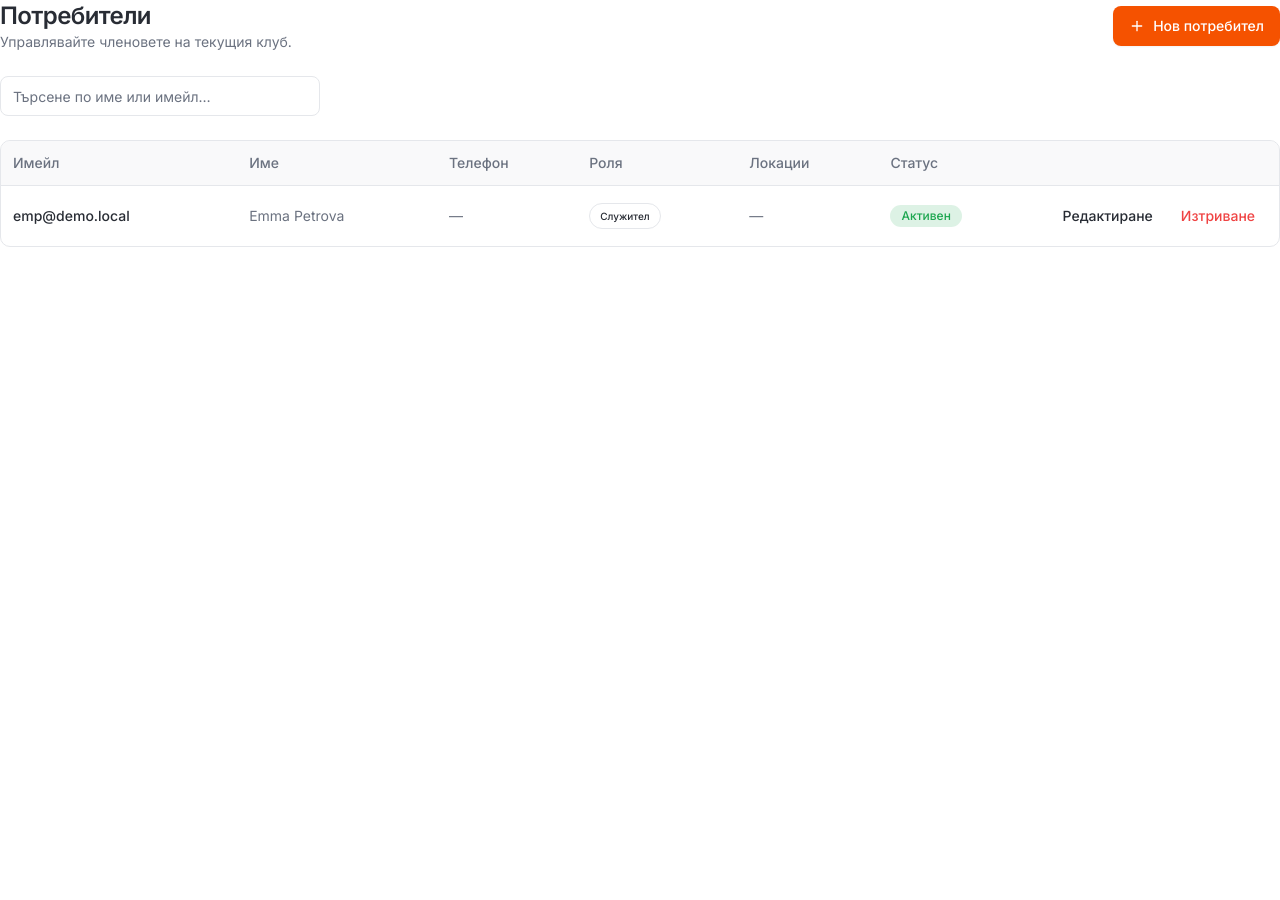
Users list — per-actor removal dialog copy › SUPER_ADMIN keeps the delete-account wording
Click the button "Изтриване".
click(1218, 216)  # box [1169, 198, 1267, 234]
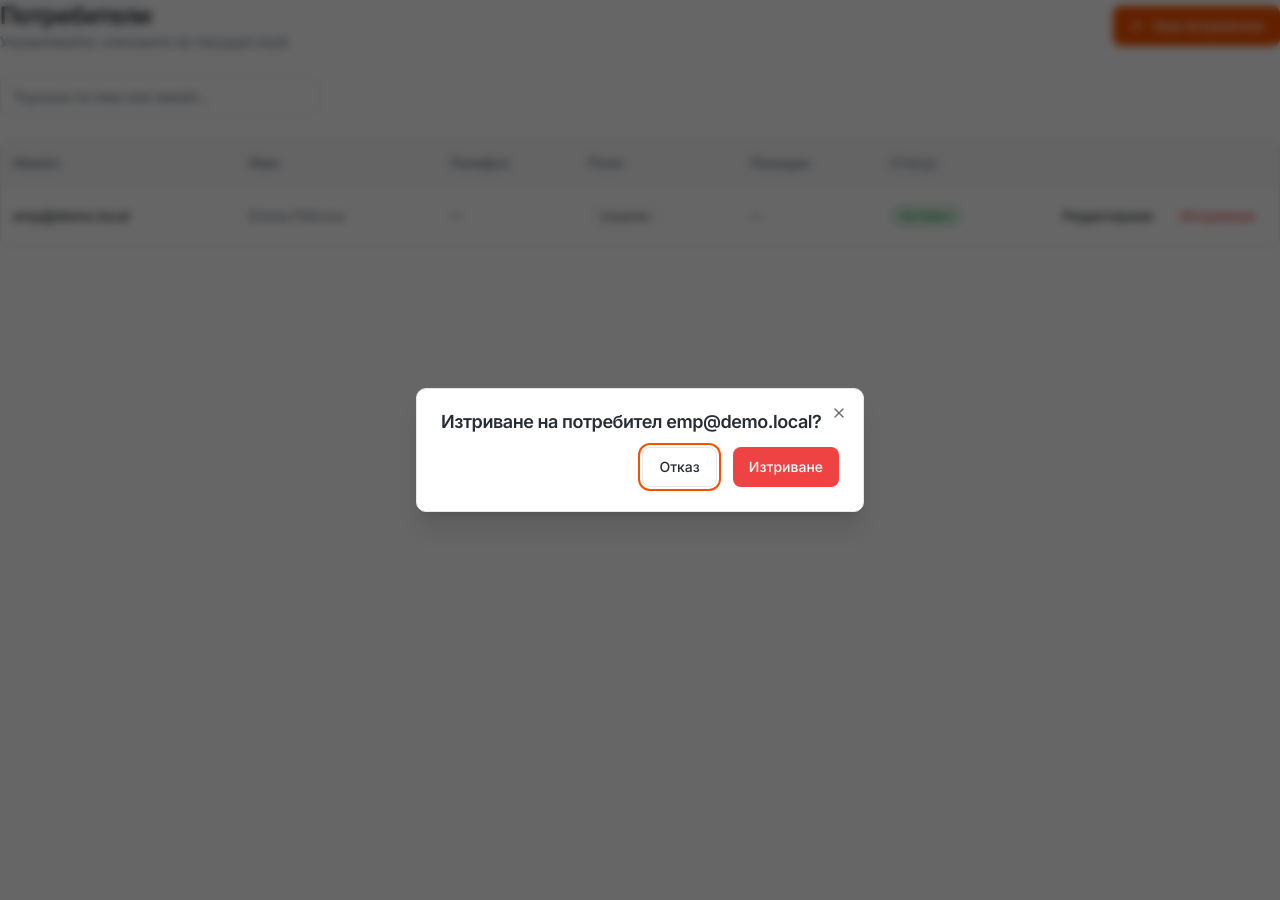
Check: the heading "Изтриване на потребител emp@demo.local?" is shown, box [441, 413, 839, 431]
